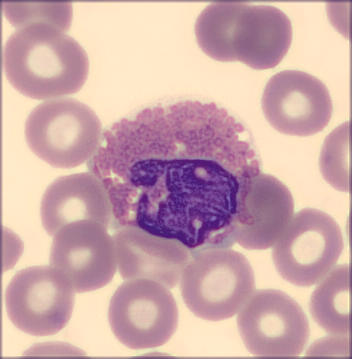EO: (91, 101, 260, 255)
RBC: (1, 20, 91, 100), (23, 96, 102, 170), (232, 285, 310, 359), (179, 247, 257, 321), (37, 170, 108, 249), (272, 207, 343, 285), (107, 277, 182, 348), (5, 266, 80, 337), (46, 218, 116, 293), (260, 70, 334, 137), (234, 172, 294, 251), (230, 3, 292, 68), (195, 2, 258, 61), (306, 263, 348, 339), (1, 1, 73, 44), (315, 122, 351, 195), (304, 330, 352, 359)
